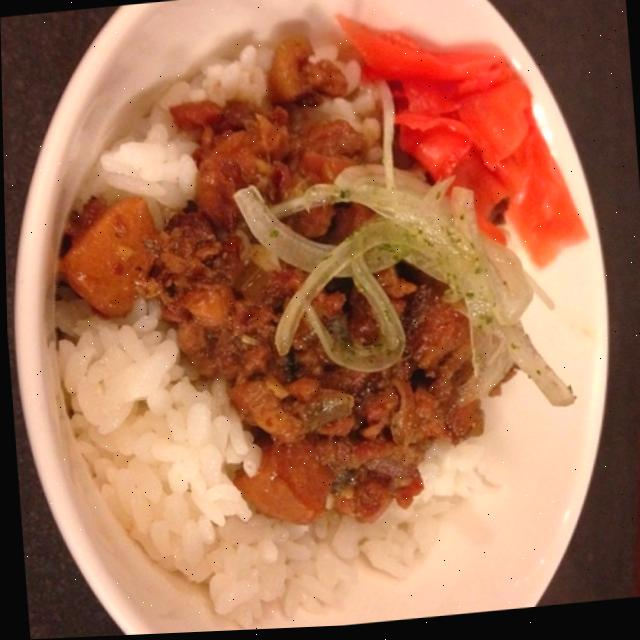猪肉菜式: (0, 0, 636, 640)
